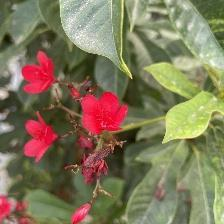jatropha: (80, 88, 131, 138), (22, 49, 58, 98)
